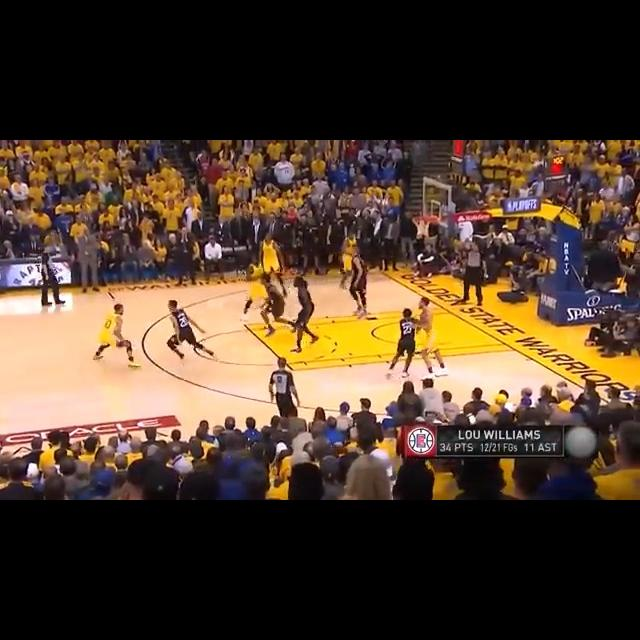hoop: (412, 215, 435, 237)
